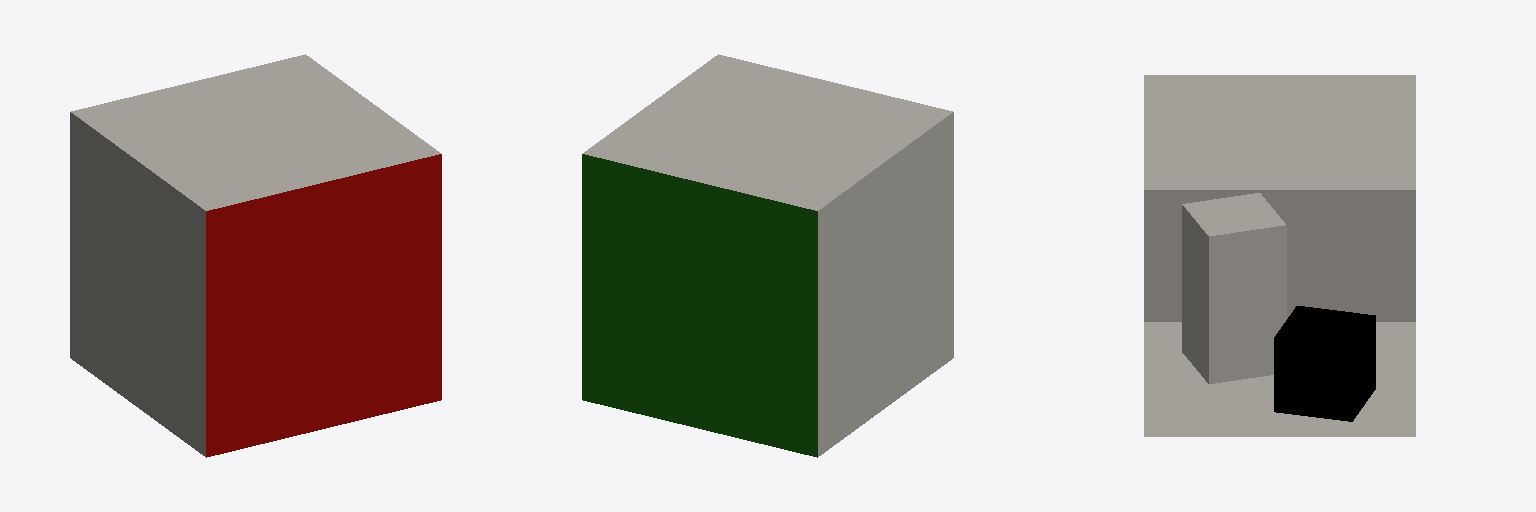
The model's file is cornell-box.obj.
3 views of the same model, side by side, from view 1: azimuth 30°, elevation 25°; view 2: azimuth 150°, elevation 25°; view 3: azimuth 270°, elevation 25° (orthographic).
Visible parts, largest first — view 1: left, back, top; view 2: right, back, top; view 3: top, back, tall, down, short.
Boxes of the visible parts, box(x1,y1,x2,y2) form: left: box(206, 154, 441, 457); back: box(70, 112, 205, 456); top: box(71, 54, 440, 210); right: box(582, 154, 817, 457); back: box(818, 112, 953, 456); top: box(583, 54, 952, 210); top: box(1144, 75, 1415, 189); back: box(1144, 190, 1415, 321); tall: box(1182, 193, 1286, 383); down: box(1144, 322, 1415, 436); short: box(1274, 306, 1375, 421).
Size of the model in its own units: 2 by 2 by 2.